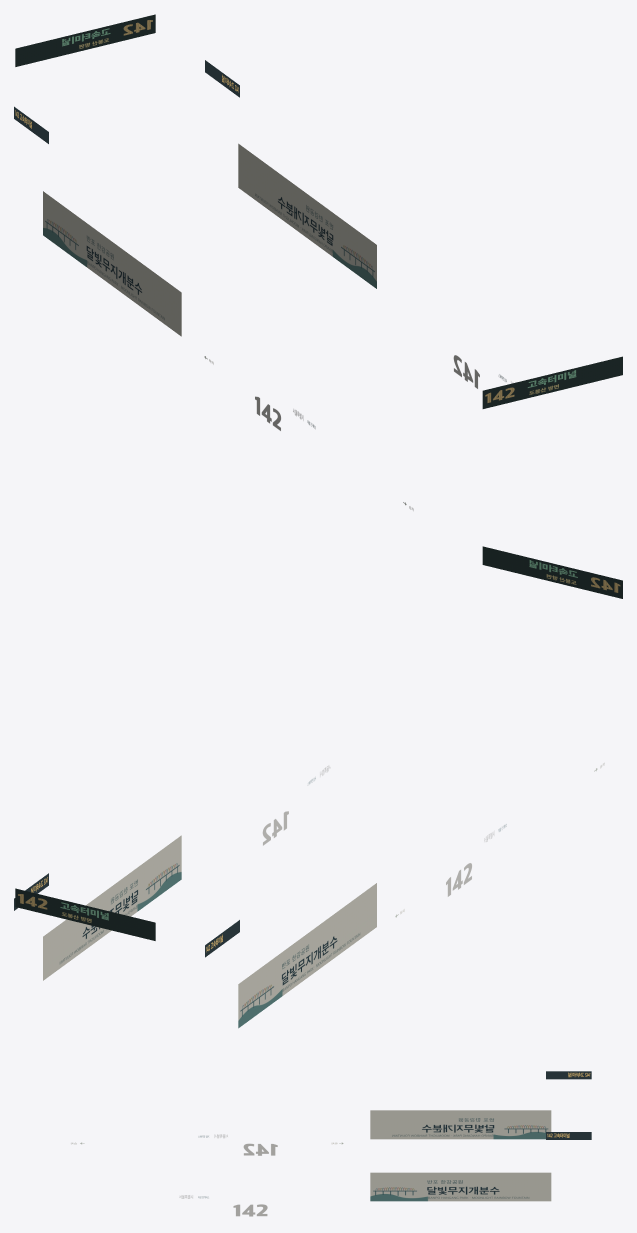
The picture shows the model from 3 angles, top to bottom: view 1: azimuth 30°, elevation 25°; view 2: azimuth 150°, elevation 25°; view 3: azimuth 270°, elevation 25°; orthographic projection. The views are drawn at different scales.
Parts seen in each view (by area): view 1: Route142; view 2: Route142; view 3: Route142.
Boxes of the visible parts, x1,y1,x2,y2 form: Route142: (14, 14, 622, 510); Route142: (14, 546, 622, 1028); Route142: (71, 1071, 591, 1216).
Size of the model in its own units: 2.57 by 2.11 by 10.67.
2 materials, 2 textured.
